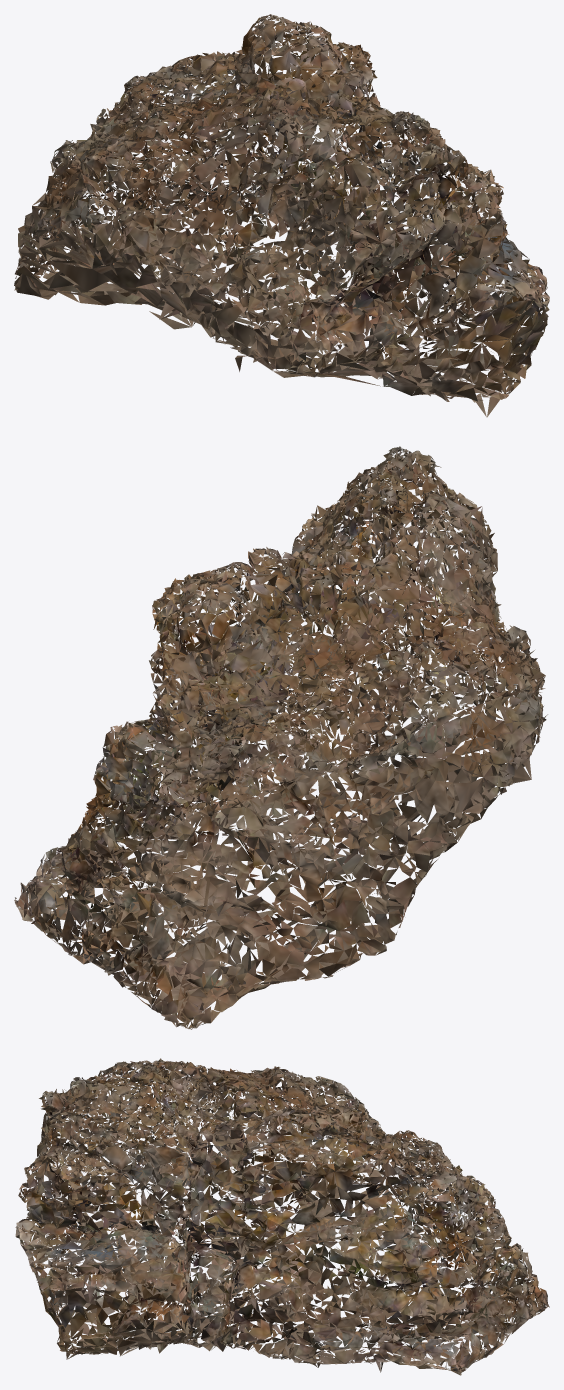
The model's file is boulder_01.glb.
3 renders of one model, top to bottom at view 1: azimuth 30°, elevation 25°; view 2: azimuth 150°, elevation 25°; view 3: azimuth 270°, elevation 25°, orthographic. The views are drawn at different scales.
Visible parts, largest first — view 1: boulder_01; view 2: boulder_01; view 3: boulder_01.
Part boxes in pixels (x1,y1,x2,y2): boulder_01: (14, 14, 549, 417); boulder_01: (14, 446, 547, 1029); boulder_01: (15, 1058, 549, 1375).
Size of the model in its own units: 0.895 by 0.7 by 1.27.
1 material, 1 textured.
